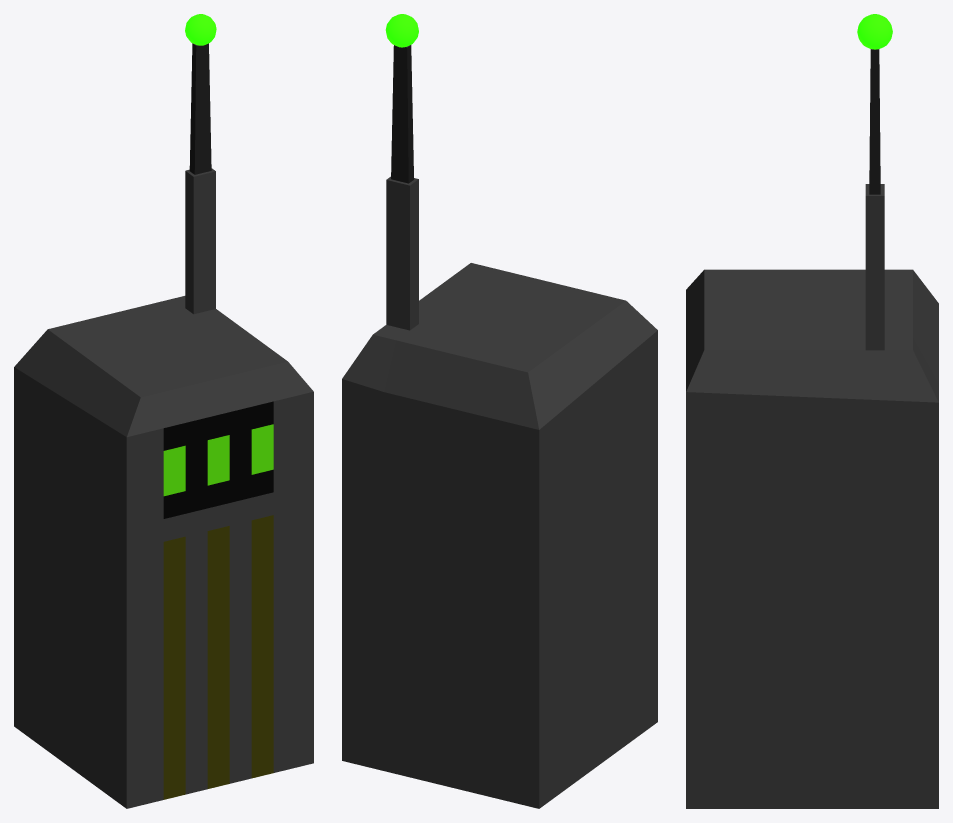
File: jammerGreen.fbx
The picture shows the model from 3 angles, left to right: view 1: azimuth 30°, elevation 25°; view 2: azimuth 150°, elevation 25°; view 3: azimuth 270°, elevation 25°; orthographic projection. The views are drawn at different scales.
Parts seen in each view (by area): view 1: Cube.001; view 2: Cube.001; view 3: Cube.001.
Part boxes in pixels (x1=…): Cube.001: x1=14, y1=14, x2=313, y2=808; Cube.001: x1=342, y1=14, x2=657, y2=808; Cube.001: x1=686, y1=14, x2=938, y2=808.
Bounding box in the file's own units: 38.82 × 137 × 40.48.
